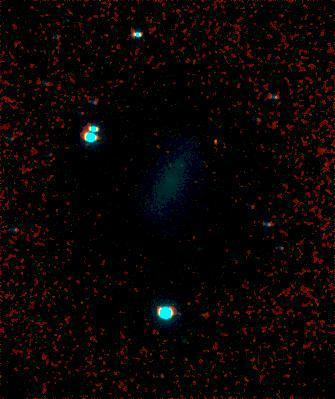star: (202, 127, 232, 157)
